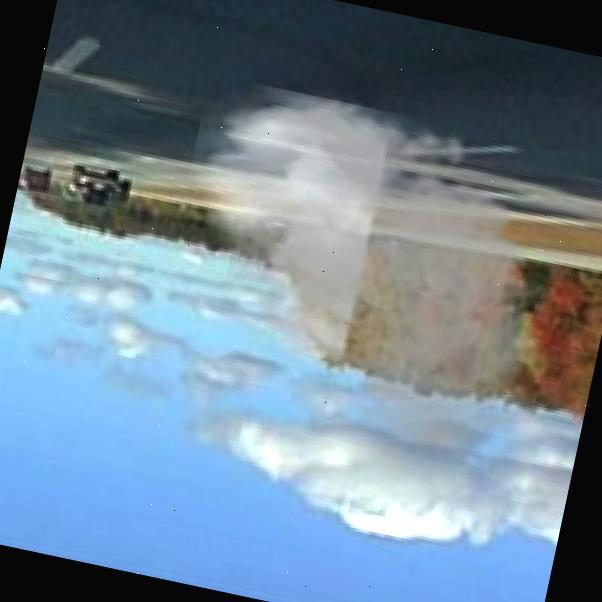smoke: (142, 59, 602, 478)
